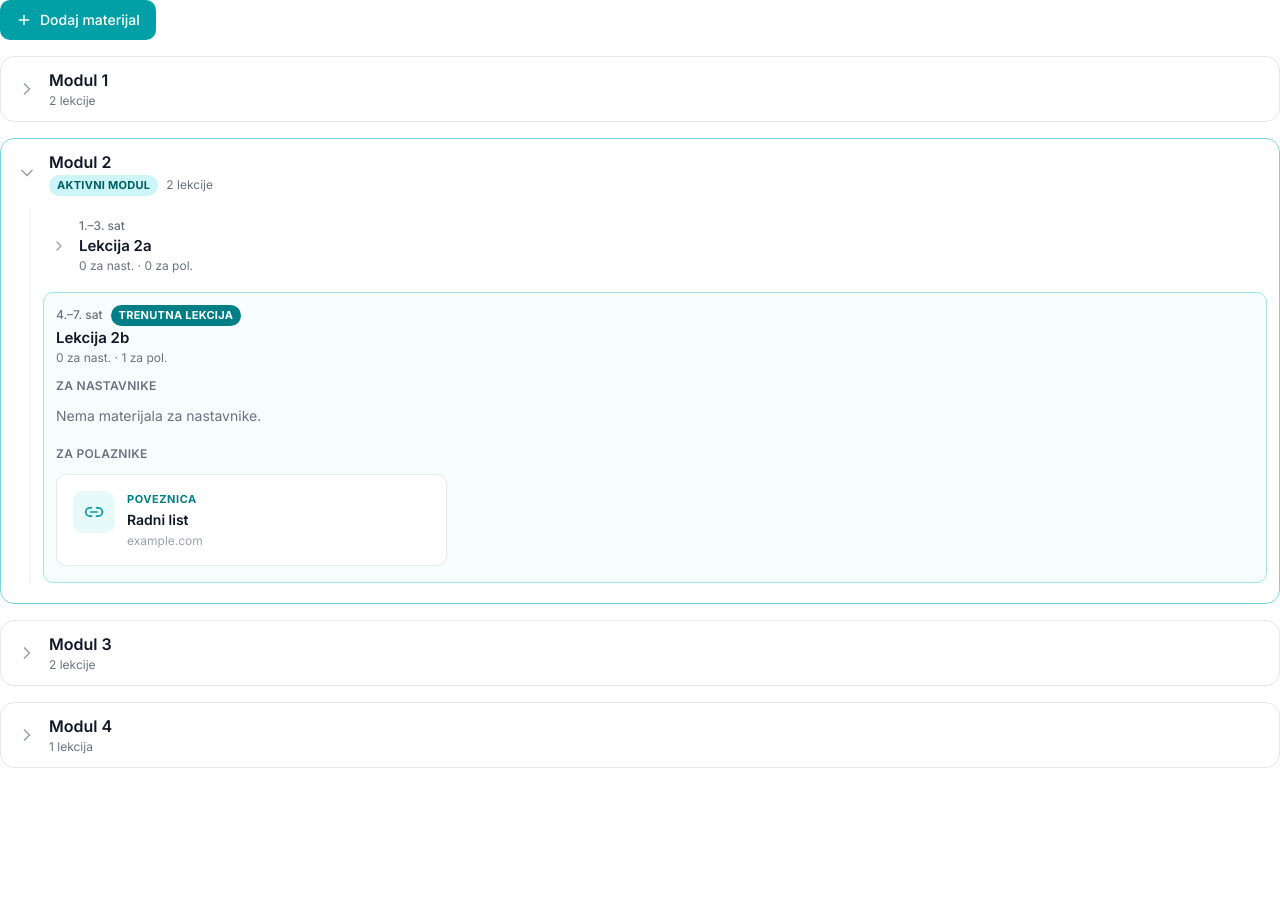
Scenario: GroupLessons › adds through one modal: title first, optional description, then lesson and audience
The image size is (1280, 900).
Step 1. Click the button "Dodaj materijal" → [78, 20], box [0, 0, 156, 40]
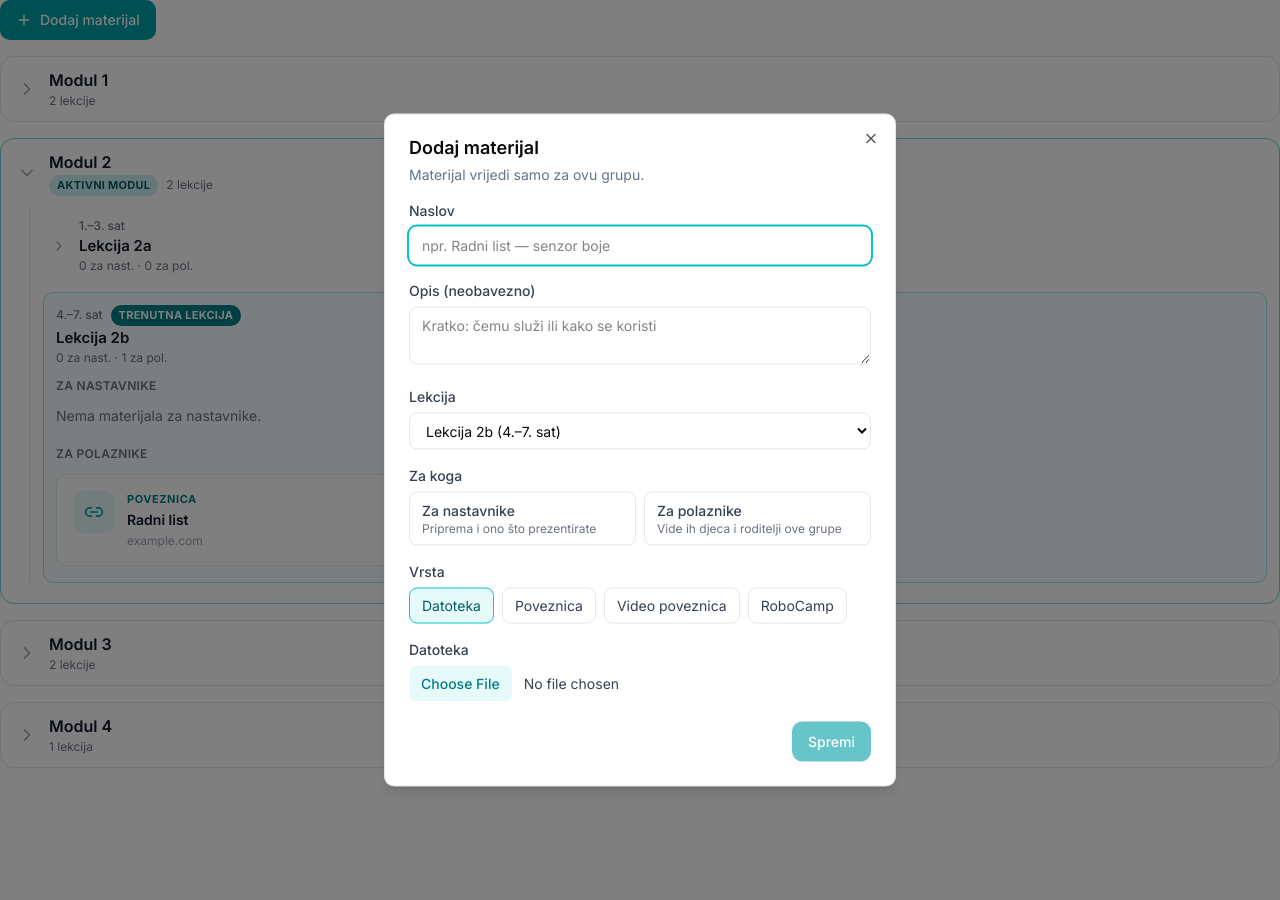
Expected: the dropdown labelled "Lekcija" shows "Lekcija 2b (4.–7. sat)", [409, 412, 871, 450]
Expected: the radio button labelled "Za nastavnike Priprema i ono što prezentirate" is not checked
Expected: the radio button labelled "Za polaznike Vide ih djeca i roditelji ove grupe" is not checked, [644, 492, 871, 546]
Step 2. Click the radio button labelled "Za nastavnike Priprema i ono što prezentirate" → [522, 518], box [409, 492, 636, 546]
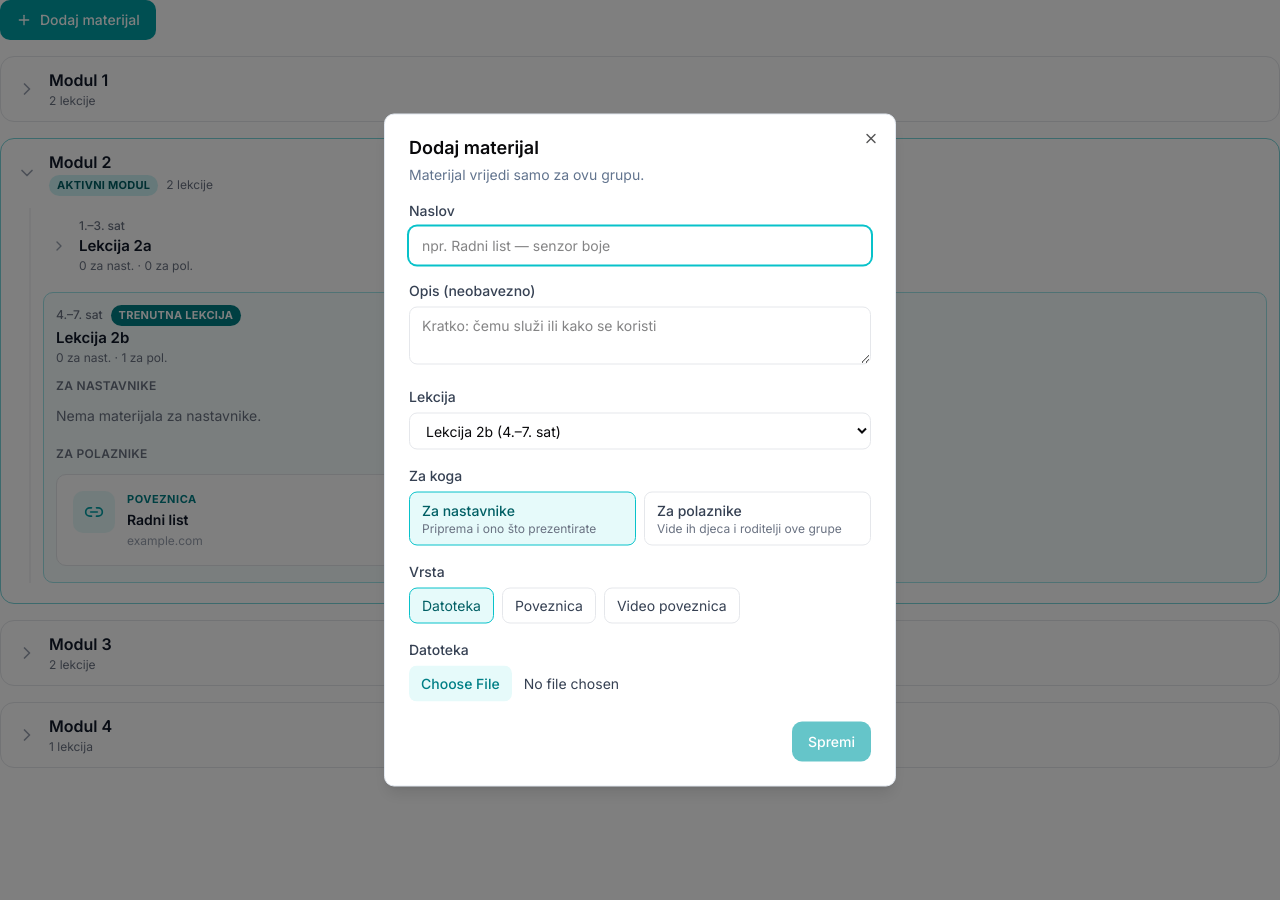
Expected: the radio button labelled "RoboCamp" is gone
Step 3. Click the radio button labelled "Za polaznike Vide ih djeca i roditelji ove grupe" → [758, 518], box [644, 492, 871, 546]
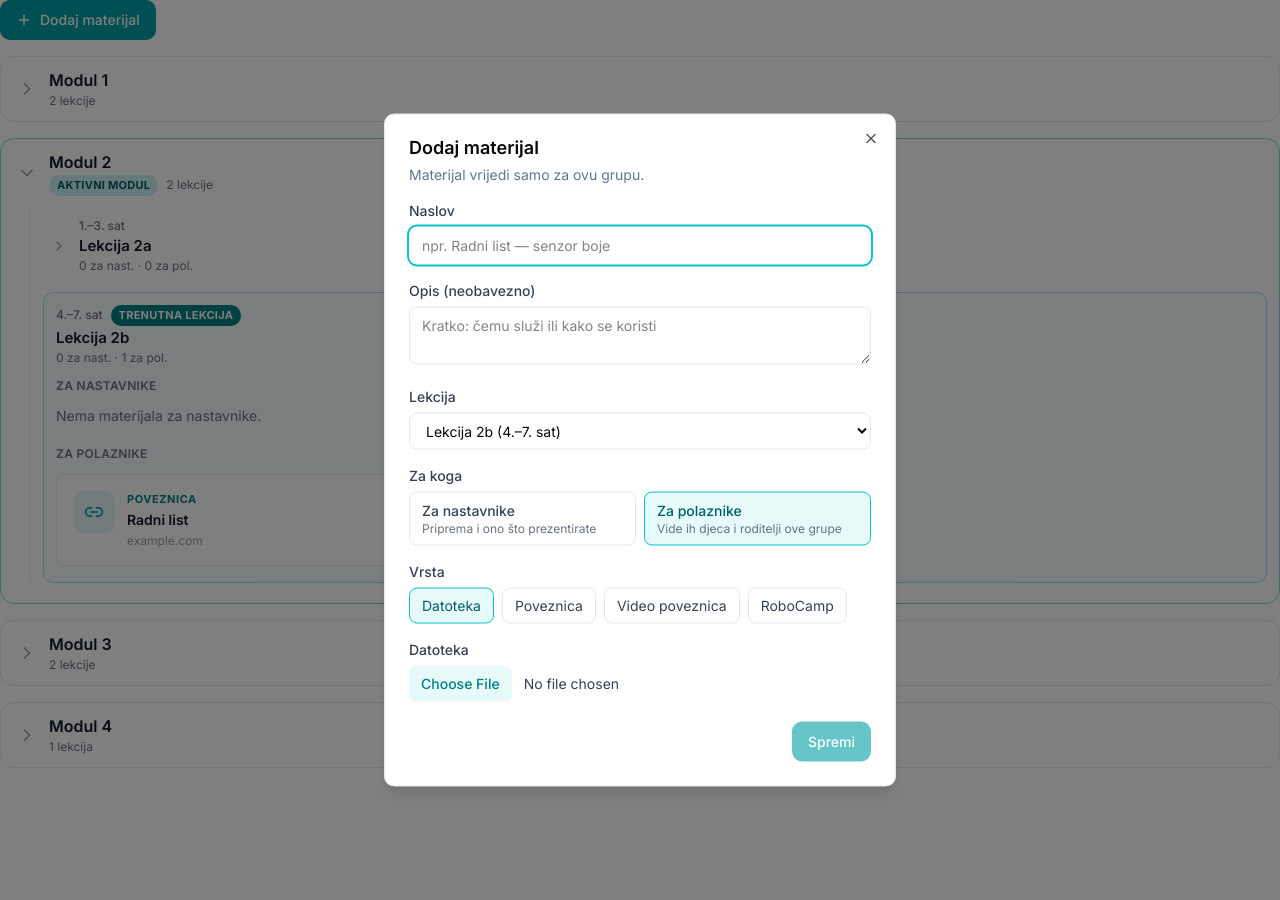
Expected: the radio button labelled "RoboCamp" is shown, [748, 588, 847, 624]
